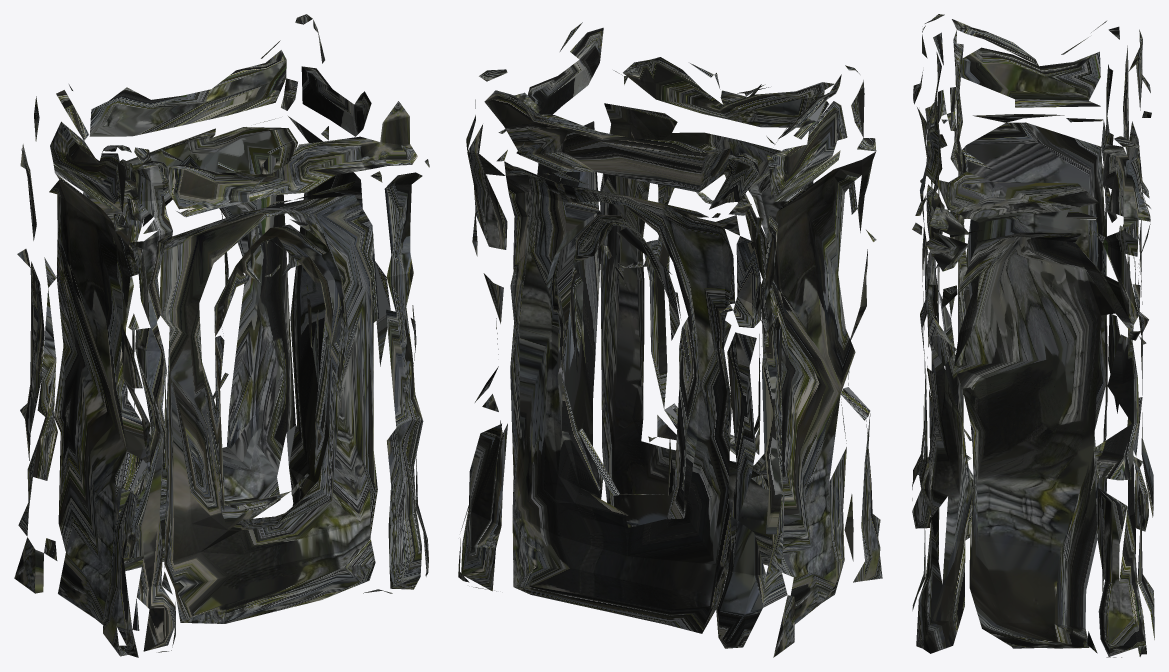
Rendered from church-wall-window.glb.
3 renders of one model, left to right at view 1: azimuth 30°, elevation 25°; view 2: azimuth 150°, elevation 25°; view 3: azimuth 270°, elevation 25°, orthographic. The views are drawn at different scales.
Visible parts, largest first — view 1: mesh; view 2: mesh; view 3: mesh.
Part boxes in pixels (bbox=[...]): mesh: bbox=[14, 14, 429, 657]; mesh: bbox=[458, 22, 882, 657]; mesh: bbox=[912, 14, 1154, 657].
Size of the model in its own units: 1.3 by 1.99 by 0.8697.
1 material, 1 textured.
